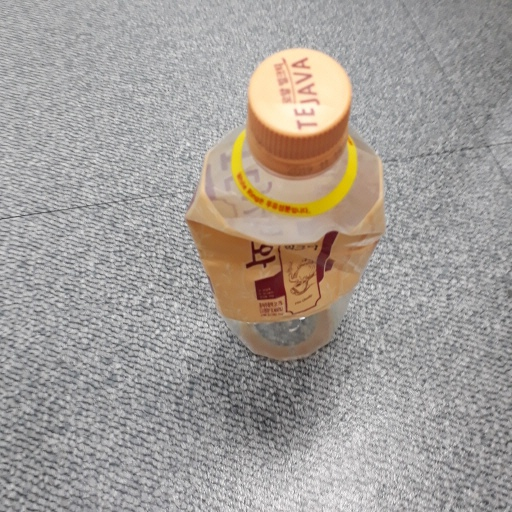Plastic_0: (184, 48, 387, 364)
